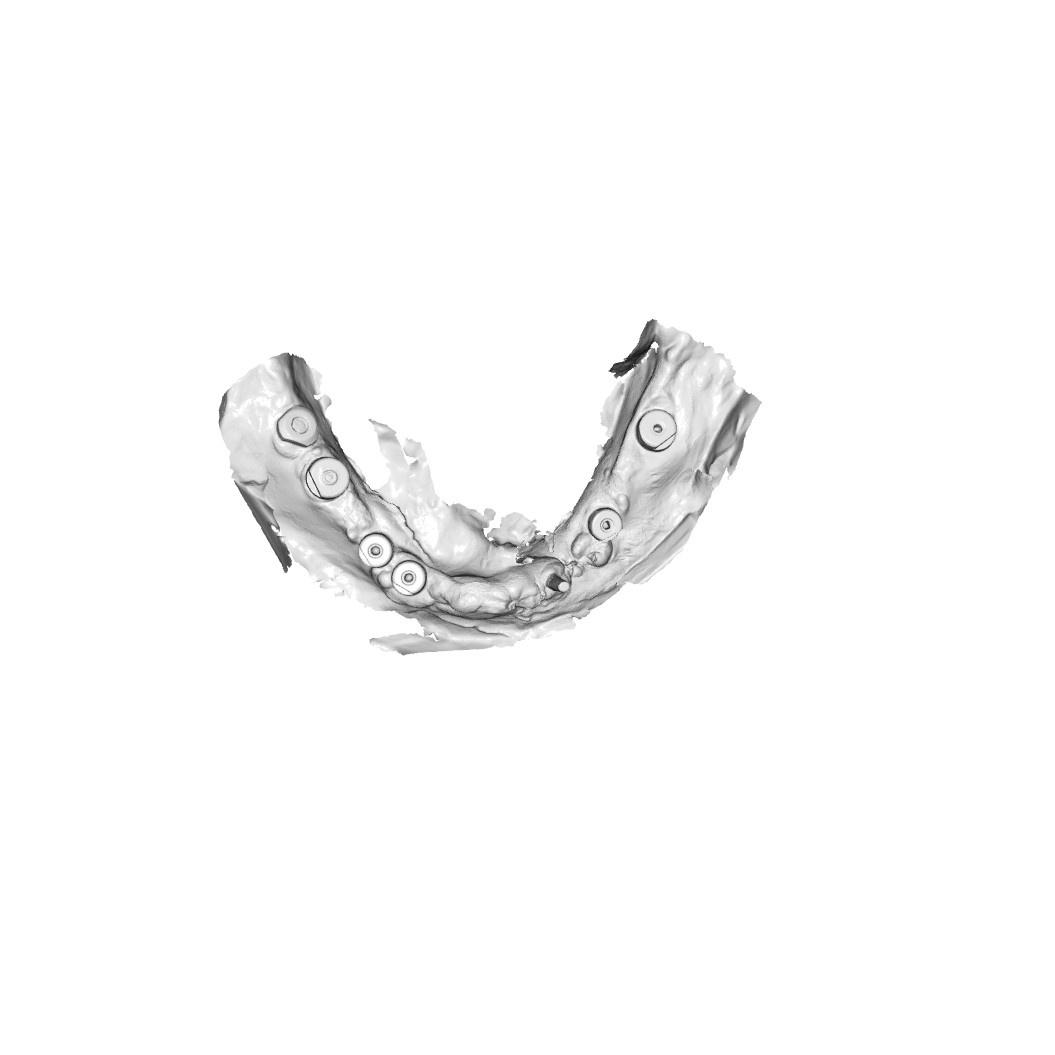abutment: (545, 571, 574, 597)
implant: (304, 455, 350, 502), (634, 408, 680, 454), (277, 401, 321, 448), (587, 505, 628, 539), (358, 531, 393, 568), (393, 561, 427, 594)
